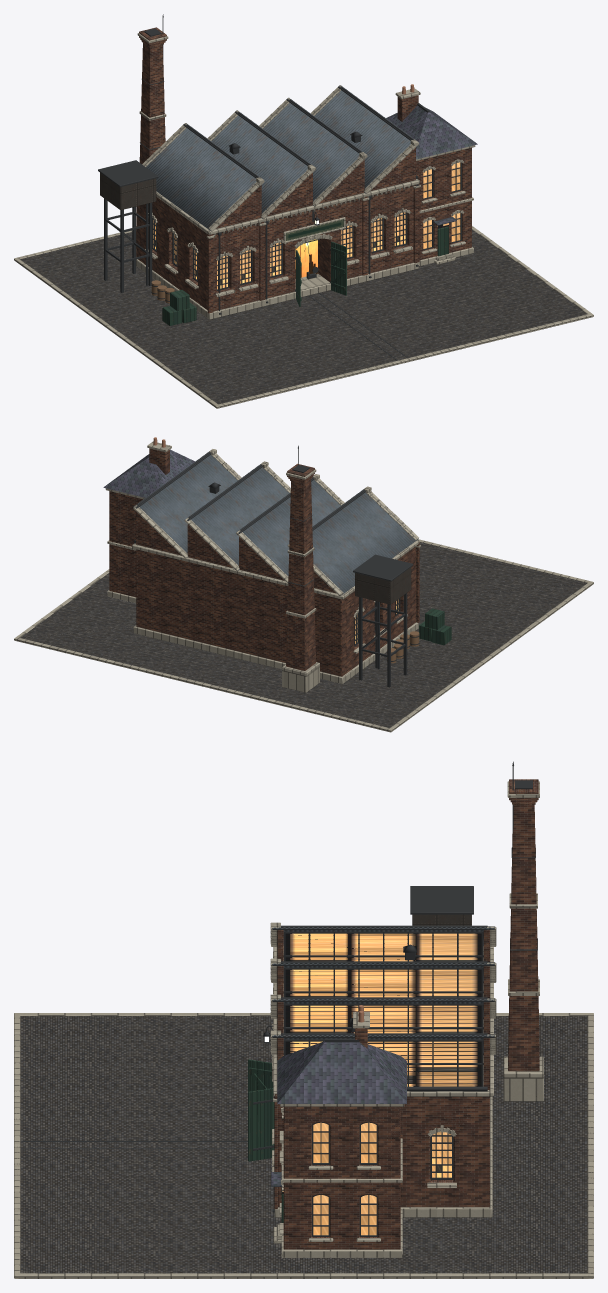
File: factory-b.glb
3 renders of one model, top to bottom at view 1: azimuth 30°, elevation 25°; view 2: azimuth 150°, elevation 25°; view 3: azimuth 270°, elevation 25°, orthographic. The views are drawn at different scales.
Visible parts, largest first — view 1: forecourt-setts, brick-parts, roof-iron-parts, stone-parts, iron-parts, kerb-stone, slate-parts, window-glow-parts, door-planks-parts, tank-iron-parts, office-glow-parts, crate-timber-parts (+1 smaller); view 2: forecourt-setts, brick-parts, roof-iron-parts, stone-parts, iron-parts, kerb-stone, slate-parts, tank-iron-parts, crate-timber-parts, barrel-wood-parts; view 3: forecourt-setts, brick-parts, roof-glow-parts, iron-parts, stone-parts, kerb-stone, slate-parts, roof-iron-parts, door-planks-parts, office-glow-parts, window-glow-parts, tank-iron-parts.
Boxes of the visible parts, left/top/right/bottom form: forecourt-setts: left=20, top=230, right=586, bottom=404; brick-parts: left=136, top=27, right=471, bottom=313; roof-iron-parts: left=146, top=85, right=418, bottom=231; stone-parts: left=136, top=33, right=475, bottom=319; iron-parts: left=98, top=14, right=461, bottom=314; kerb-stone: left=14, top=226, right=593, bottom=408; slate-parts: left=386, top=105, right=477, bottom=225; window-glow-parts: left=153, top=212, right=405, bottom=289; door-planks-parts: left=296, top=226, right=448, bottom=306; tank-iron-parts: left=100, top=172, right=156, bottom=210; office-glow-parts: left=423, top=162, right=460, bottom=248; crate-timber-parts: left=162, top=289, right=196, bottom=325; forecourt-setts: left=21, top=542, right=587, bottom=727; brick-parts: left=109, top=448, right=419, bottom=676; roof-iron-parts: left=133, top=452, right=418, bottom=595; stone-parts: left=105, top=441, right=420, bottom=692; iron-parts: left=134, top=445, right=419, bottom=687; kerb-stone: left=14, top=539, right=593, bottom=732; slate-parts: left=103, top=449, right=194, bottom=497; tank-iron-parts: left=355, top=567, right=411, bottom=604; crate-timber-parts: left=419, top=608, right=451, bottom=645; barrel-wood-parts: left=387, top=631, right=419, bottom=663; forecourt-setts: left=20, top=1016, right=587, bottom=1273; brick-parts: left=274, top=779, right=539, bottom=1249; roof-glow-parts: left=285, top=933, right=481, bottom=1086; iron-parts: left=252, top=761, right=537, bottom=1236; stone-parts: left=270, top=781, right=543, bottom=1257; kerb-stone: left=14, top=1013, right=593, bottom=1278; slate-parts: left=271, top=1041, right=406, bottom=1186; roof-iron-parts: left=272, top=927, right=495, bottom=1052; door-planks-parts: left=248, top=1059, right=283, bottom=1222; office-glow-parts: left=282, top=1122, right=376, bottom=1235; window-glow-parts: left=432, top=1131, right=451, bottom=1177; tank-iron-parts: left=412, top=914, right=471, bottom=925.
Size of the model in its own units: 5.86 by 3.53 by 5.46.
19 materials, 14 textured.
